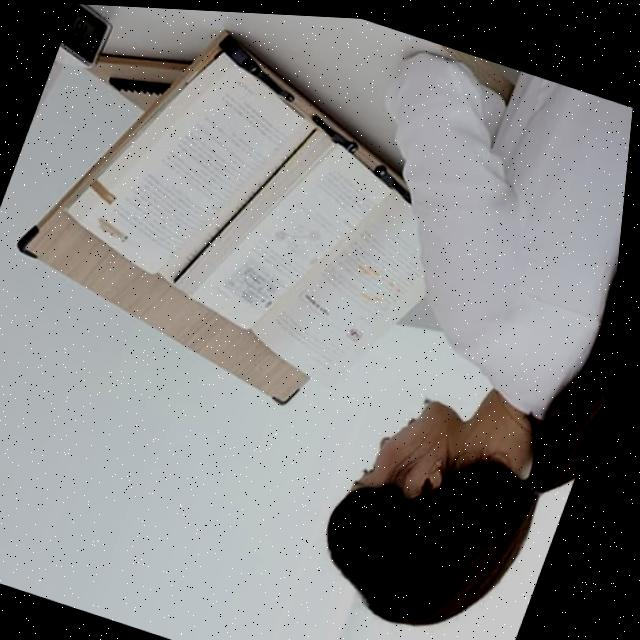studying-person: (55, 7, 634, 640)
